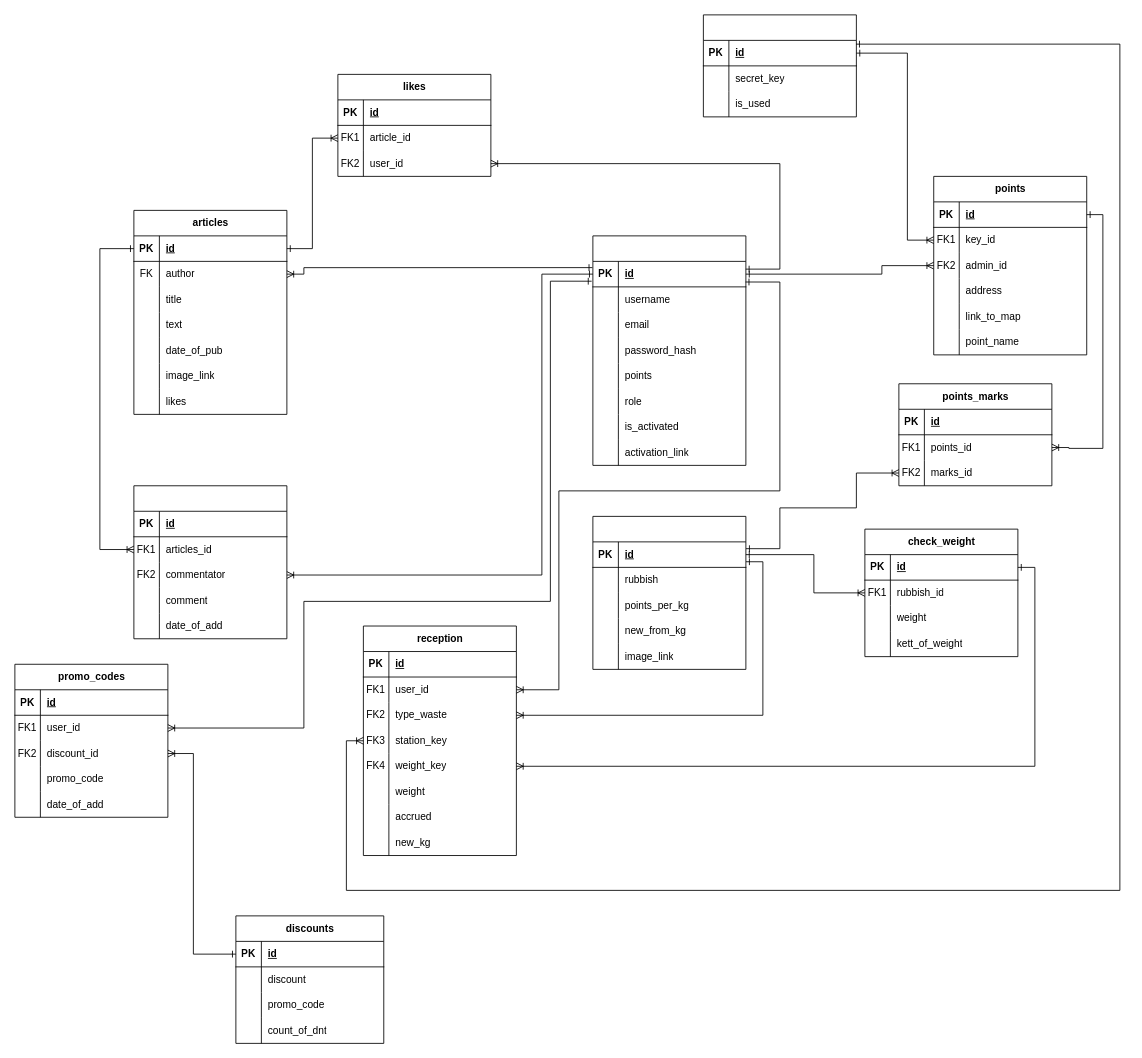
Image size: 1142x1058. Some labels were removed from this diagram. Each missing label, with the box of its shape:
marks: (592, 516, 746, 669)
ratings: (133, 485, 287, 639)
s_keys: (703, 14, 856, 117)
users: (592, 235, 746, 465)
